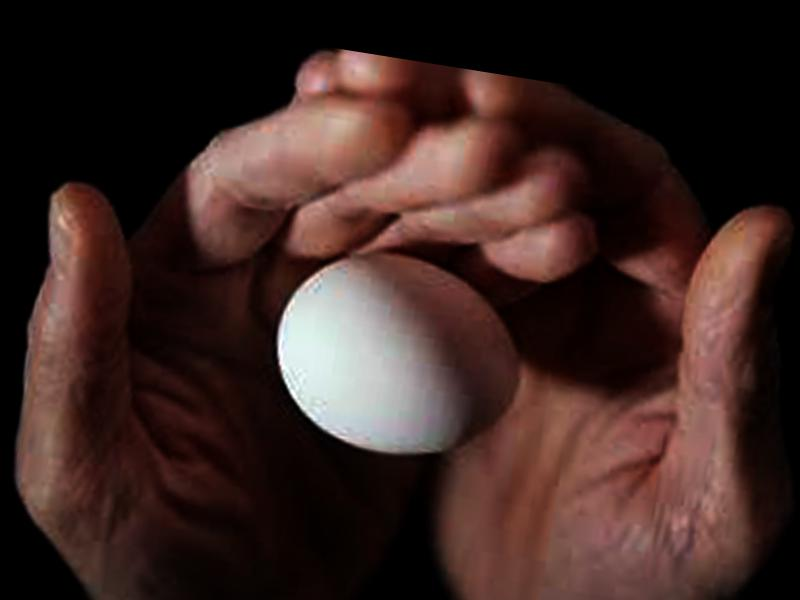Eggs: (260, 239, 532, 473)
